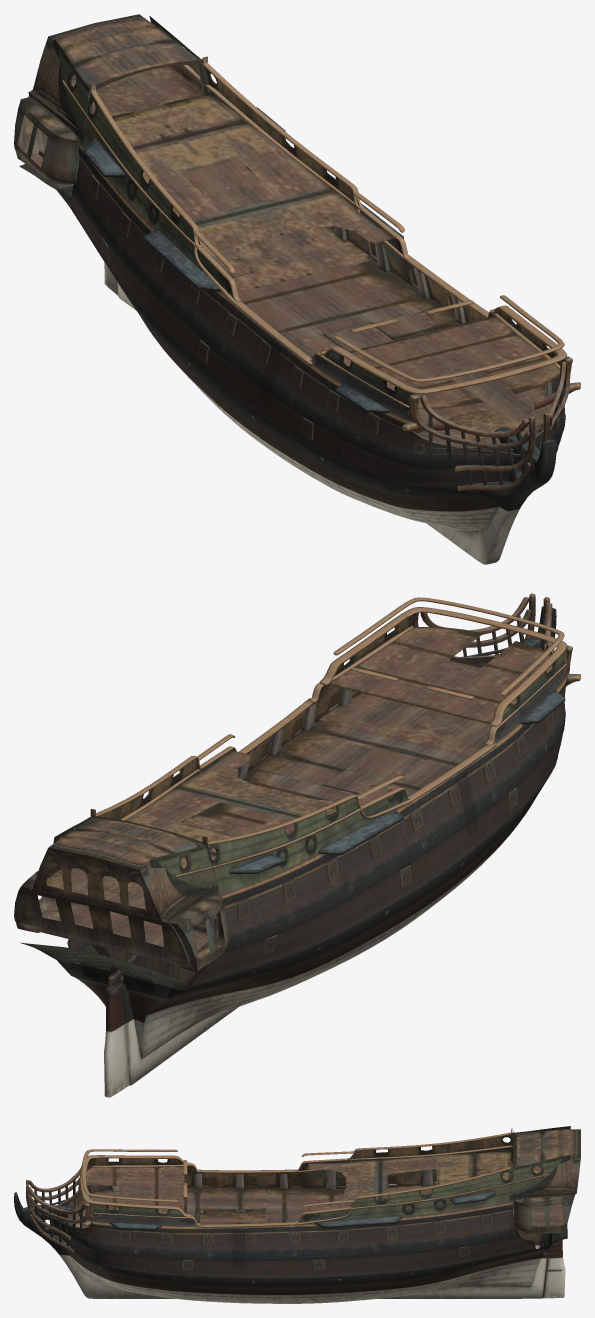
Rendered from canoe.glb.
3 renders of one model, top to bottom at view 1: azimuth 30°, elevation 25°; view 2: azimuth 150°, elevation 25°; view 3: azimuth 270°, elevation 25°, orthographic. The views are drawn at different scales.
Visible parts, largest first — view 1: ship_pinnace_hull, ship_pinnace_interior; view 2: ship_pinnace_hull, ship_pinnace_interior; view 3: ship_pinnace_hull, ship_pinnace_interior.
Part boxes in pixels (x1=…): ship_pinnace_hull: x1=19, y1=16, x2=580, y2=564; ship_pinnace_interior: x1=14, y1=14, x2=562, y2=447; ship_pinnace_hull: x1=19, y1=593, x2=580, y2=1097; ship_pinnace_interior: x1=14, y1=614, x2=554, y2=990; ship_pinnace_hull: x1=14, y1=1126, x2=570, y2=1303; ship_pinnace_interior: x1=59, y1=1129, x2=580, y2=1238.
Size of the model in its own units: 9.07 by 10.34 by 33.79.
Materials: 2 (2 with a texture image).
